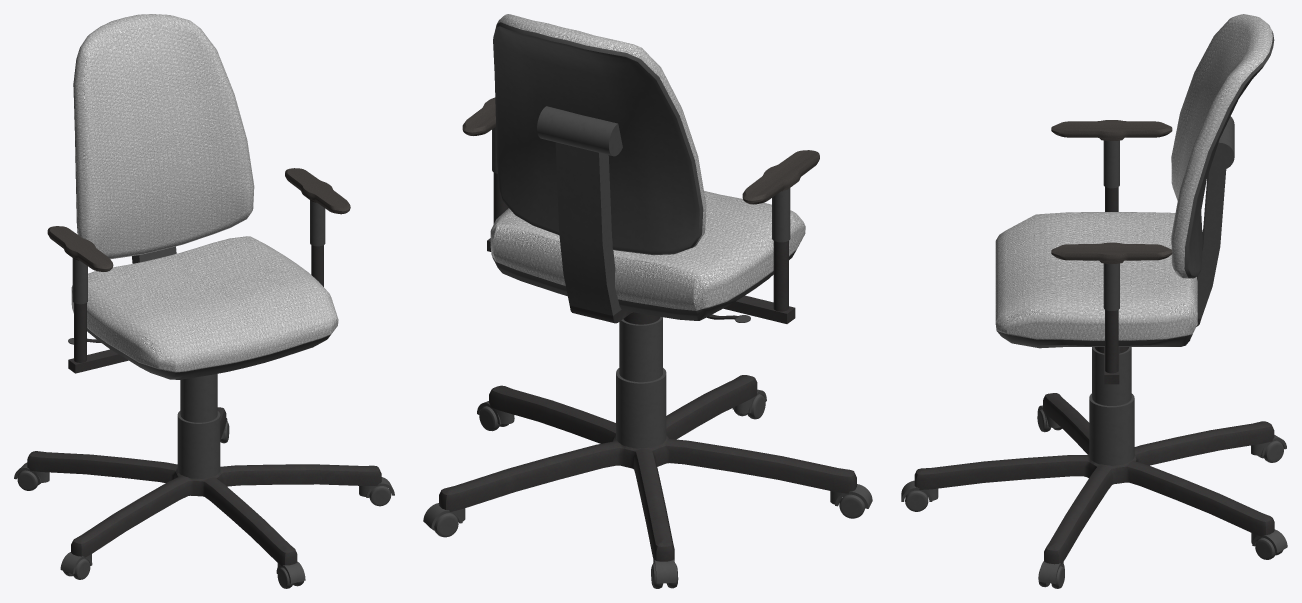
The model's file is OfficeChair.fbx.
3 renders of one model, left to right at view 1: azimuth 30°, elevation 25°; view 2: azimuth 150°, elevation 25°; view 3: azimuth 270°, elevation 25°, orthographic. The views are drawn at different scales.
Parts seen in each view (by area): view 1: OfficeChair; view 2: OfficeChair; view 3: OfficeChair.
Part boxes in pixels (<box>): OfficeChair: <box>14,14,394,588</box>; OfficeChair: <box>423,14,872,588</box>; OfficeChair: <box>901,14,1287,588</box>.
Size of what is drawn, in the model's own units: 97.29 by 126 by 92.63.
